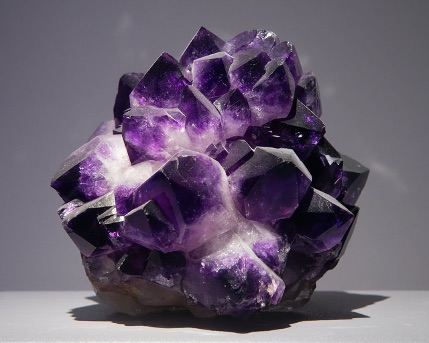Amethyst: (48, 27, 371, 317)
